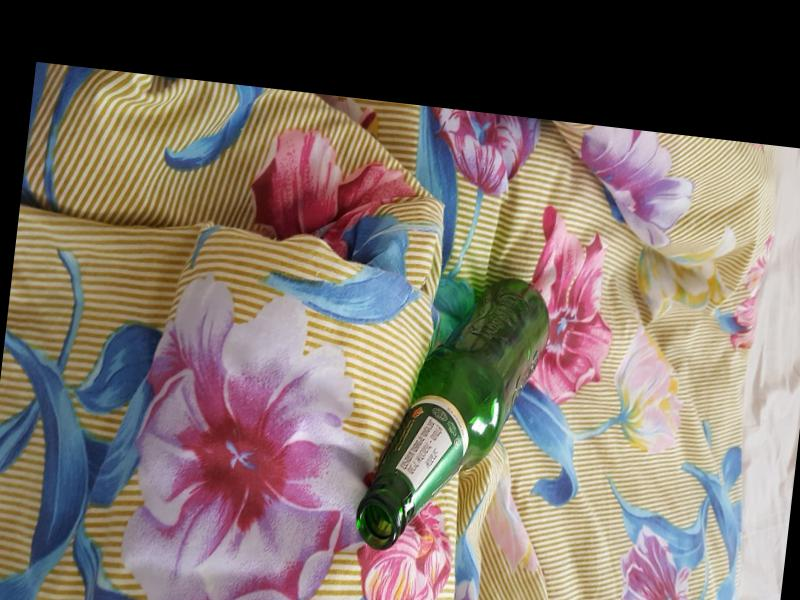Beer: (351, 267, 552, 564)
